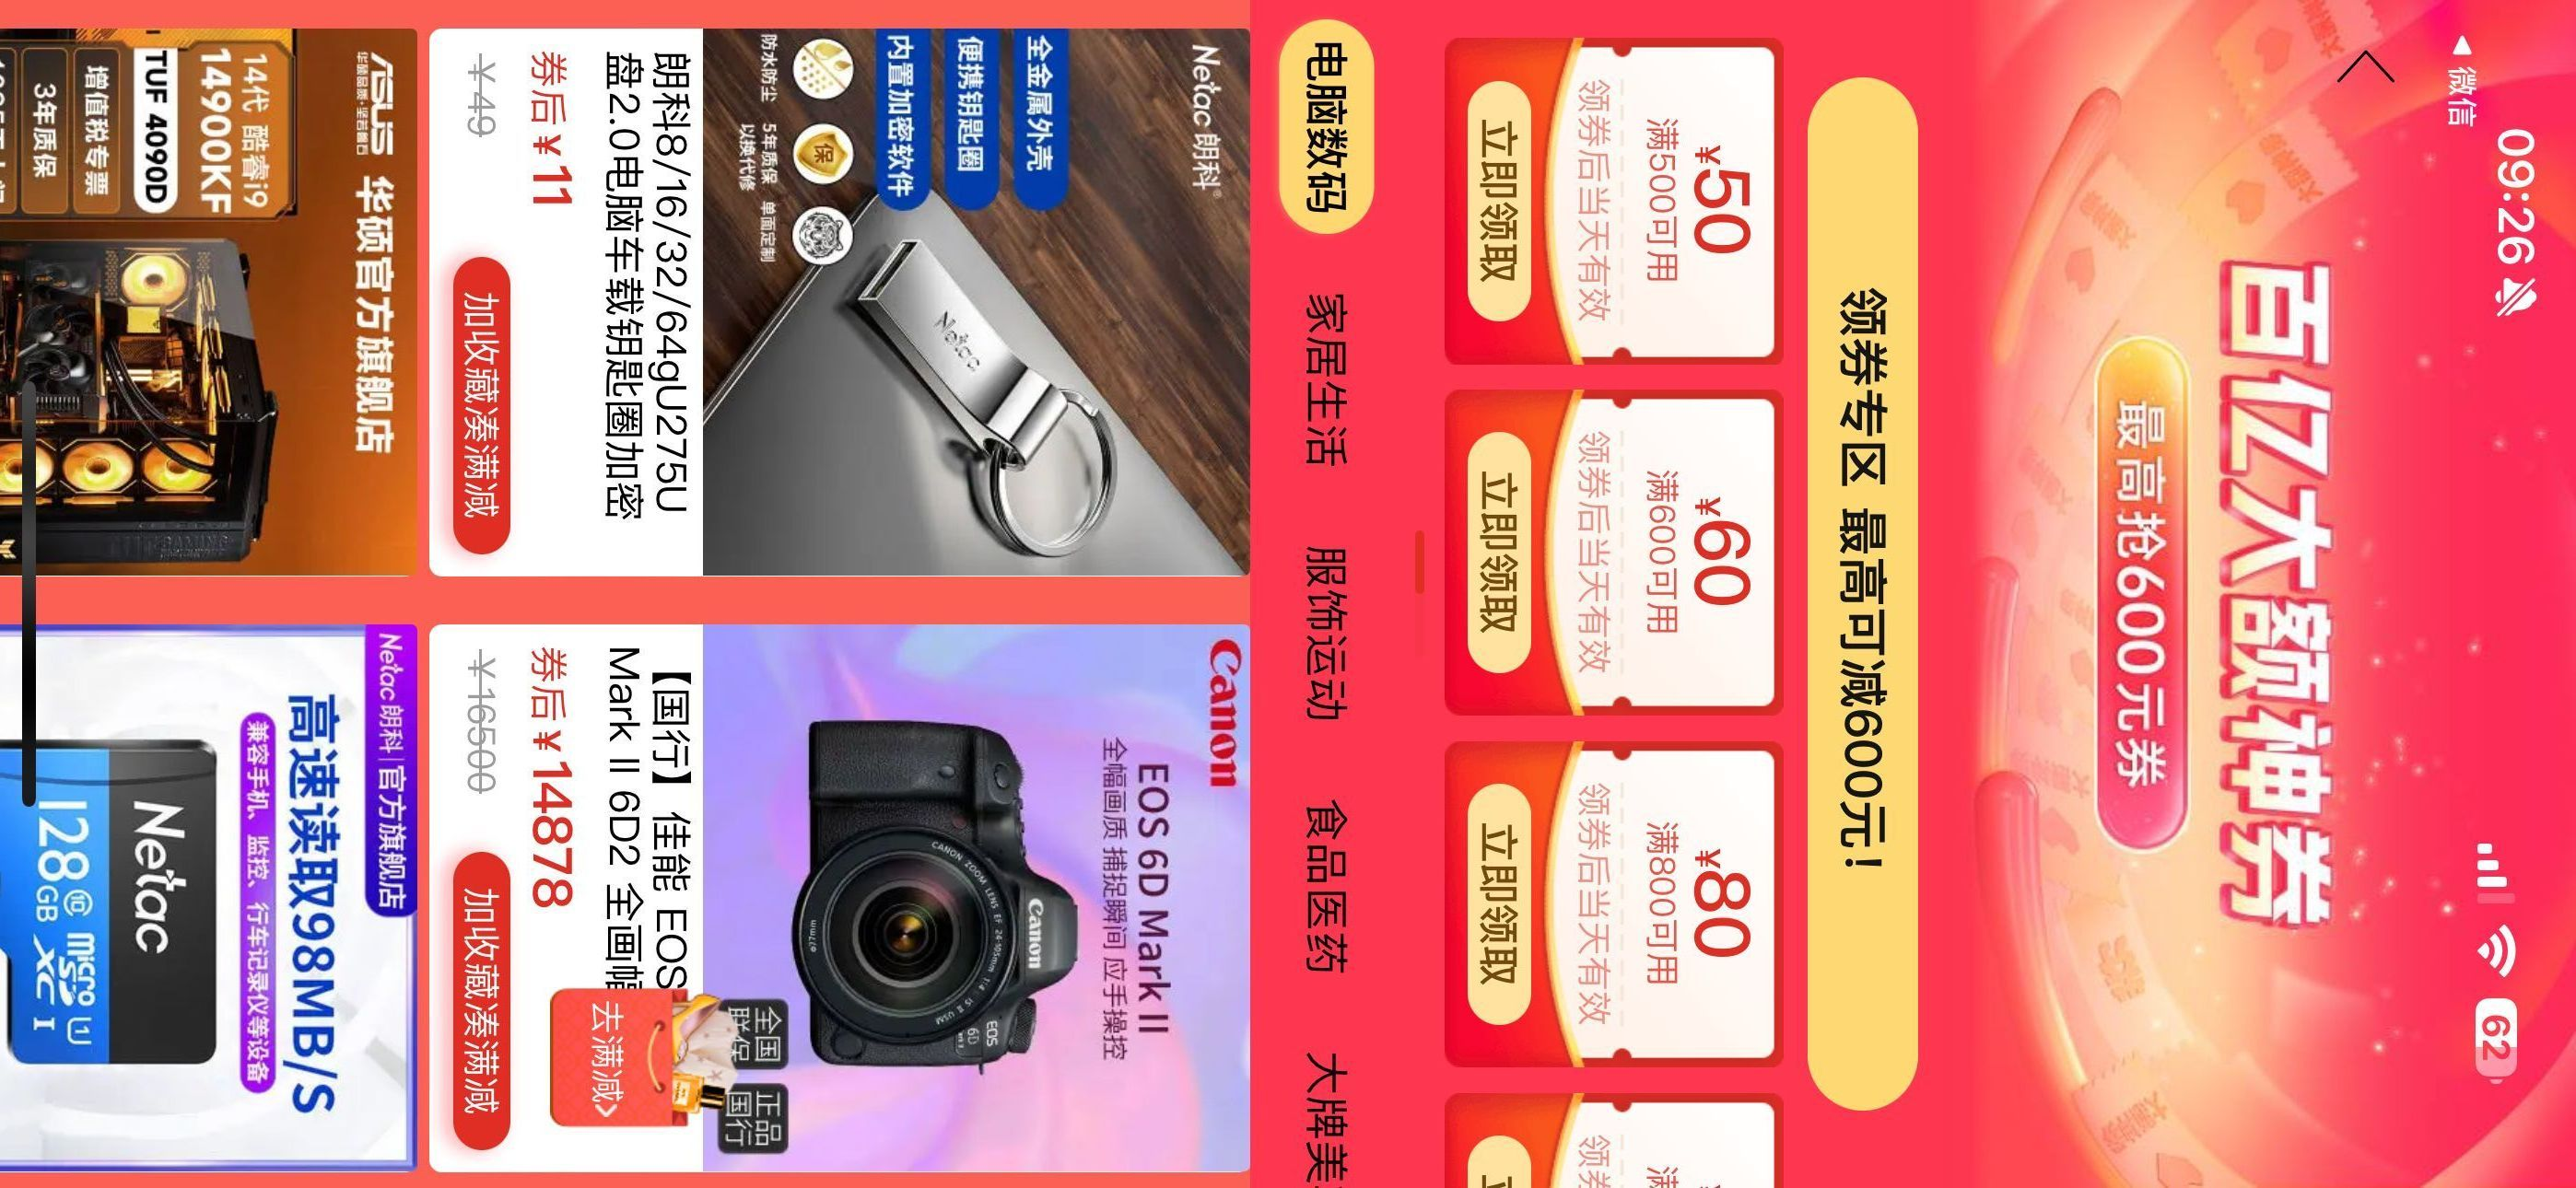item: (430, 26, 1250, 577), (434, 621, 1244, 1173)
op_bar: (2308, 2, 2423, 1188)
